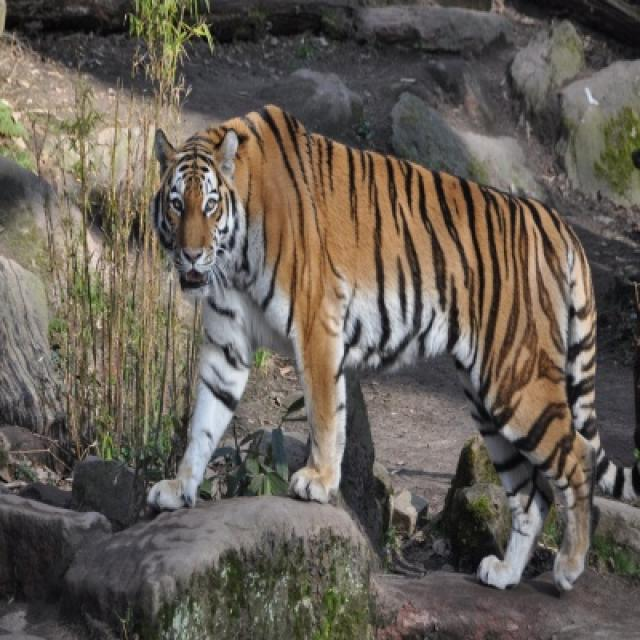Tiger: (150, 103, 638, 593)
